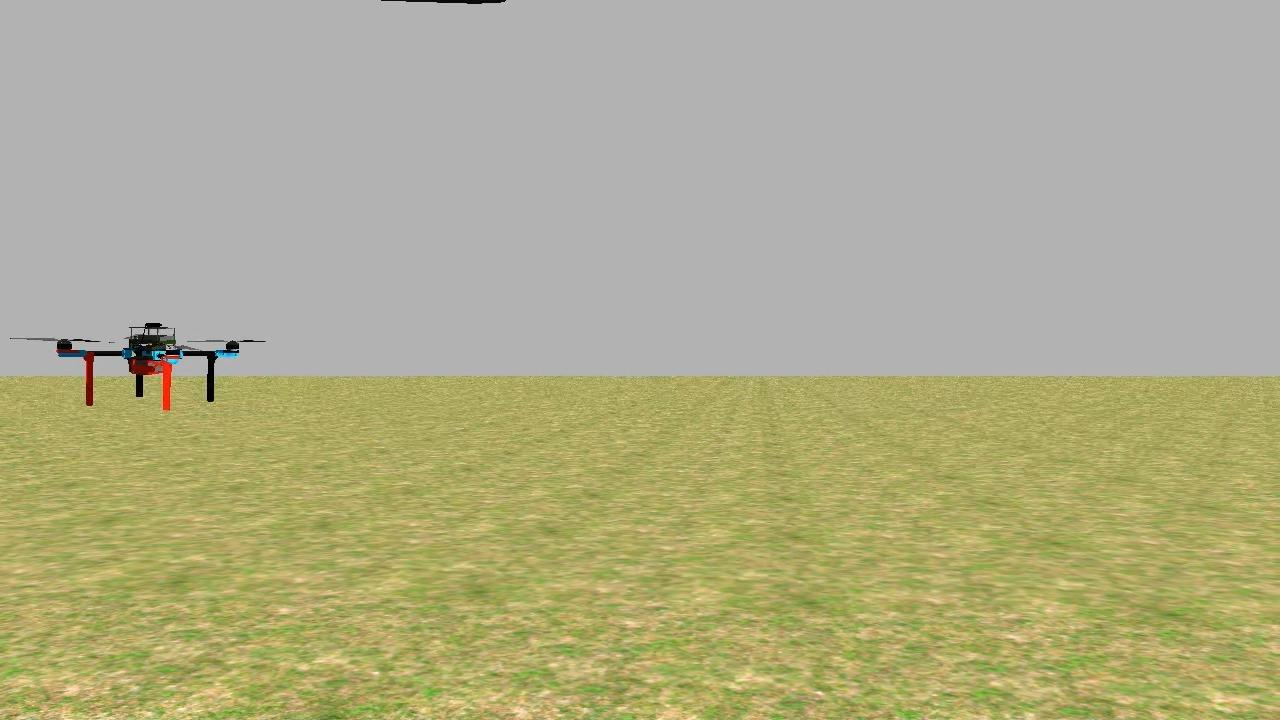UAV: (48, 310, 248, 439)
